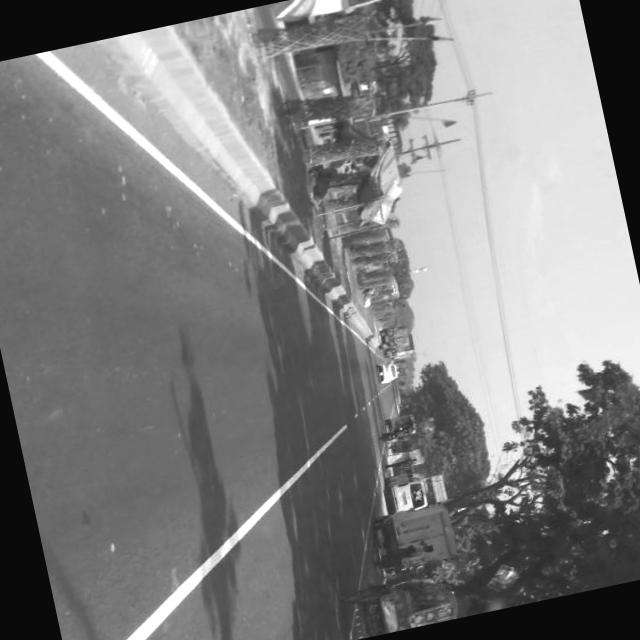bus: (383, 414, 418, 436)
car: (374, 358, 402, 386)
motorcycle: (335, 565, 463, 640), (384, 436, 417, 460), (380, 427, 410, 445)
truck: (372, 500, 463, 576), (384, 467, 431, 514), (376, 324, 413, 353)
